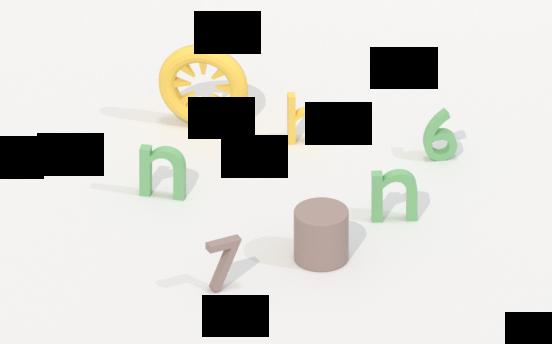6: (419, 107, 460, 162)
7: (200, 235, 249, 295)
h: (284, 91, 324, 148)
n: (365, 168, 427, 225), (136, 140, 190, 204)
tron: (155, 45, 251, 129)
tru: (287, 190, 355, 279)
